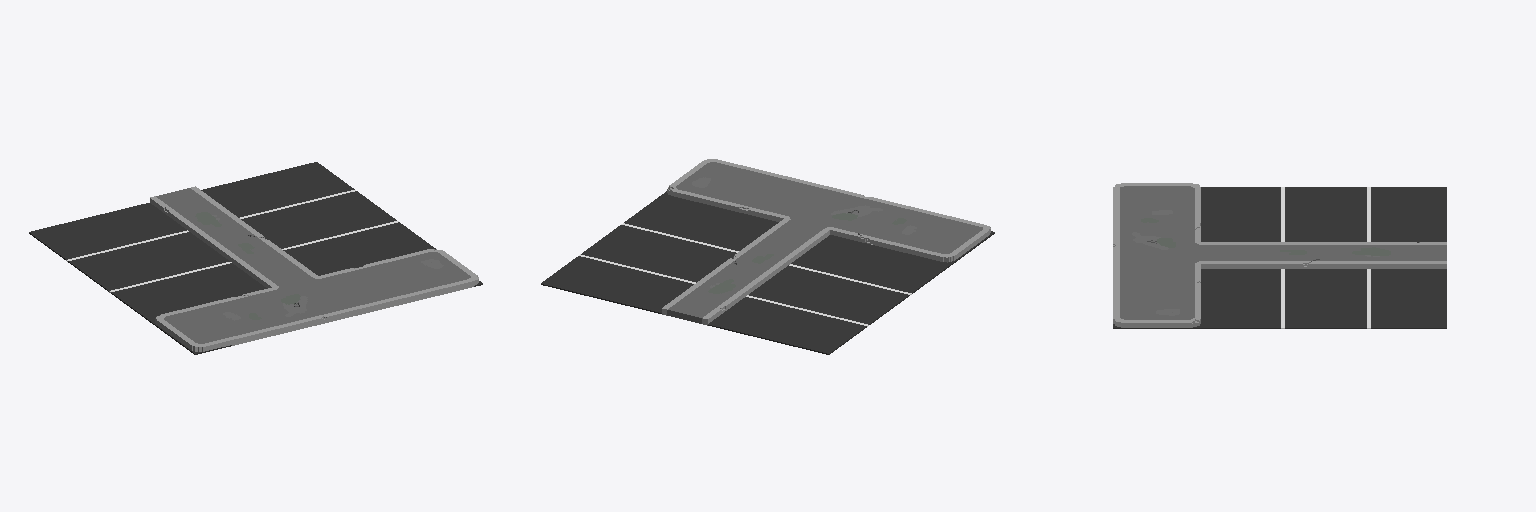
The picture shows the model from 3 angles: view 1: azimuth 30°, elevation 25°; view 2: azimuth 150°, elevation 25°; view 3: azimuth 270°, elevation 25°; orthographic projection.
Visible parts, largest first — view 1: object 1; view 2: object 1; view 3: object 1.
Part boxes in pixels (x1,y1,x2,y2): object 1: (29,162,482,354); object 1: (541,159,994,354); object 1: (1113,183,1446,328).
Bounding box in the file's own units: 25 × 0.5 × 25.
Materials: 1 (1 with a texture image).